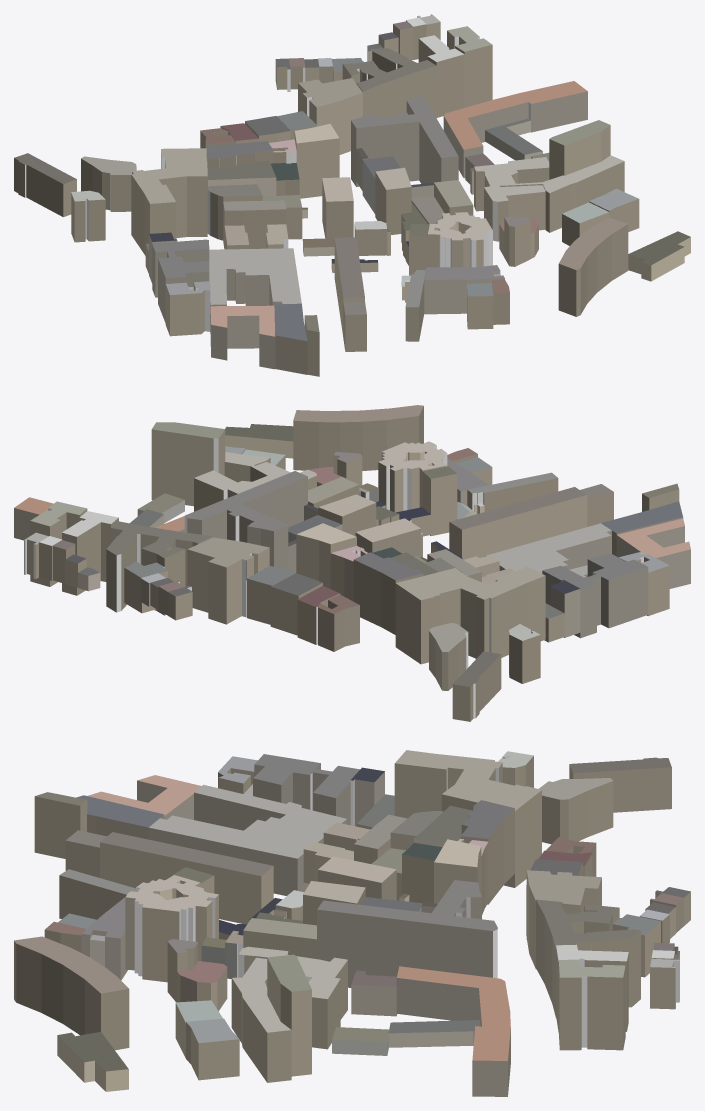
3 views of the same model, one above another, from view 1: azimuth 30°, elevation 25°; view 2: azimuth 150°, elevation 25°; view 3: azimuth 270°, elevation 25° (orthographic). The views are drawn at different scales.
Visible parts, largest first — view 1: tuile; view 2: tuile; view 3: tuile.
Part boxes in pixels (x1,y1,x2,y2): tuile: (14,14,690,376); tuile: (14,405,690,721); tuile: (14,750,690,1096).
Size of the model in its own units: 302 by 50.57 by 273.
